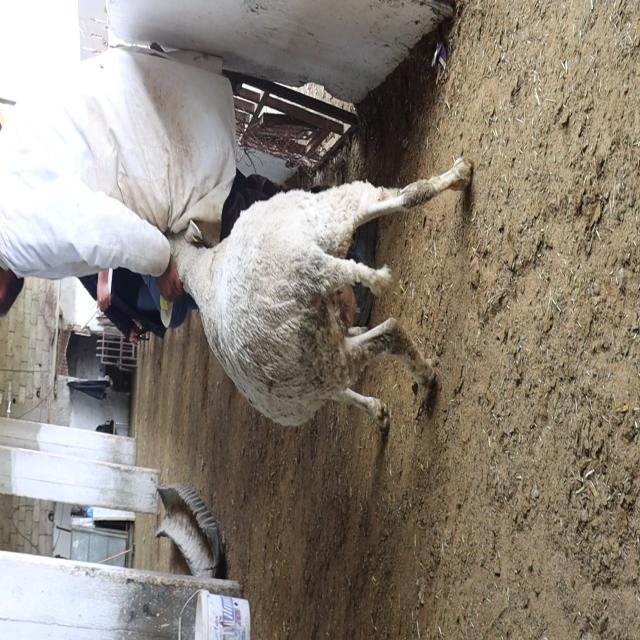Score_5: (171, 157, 472, 431)
